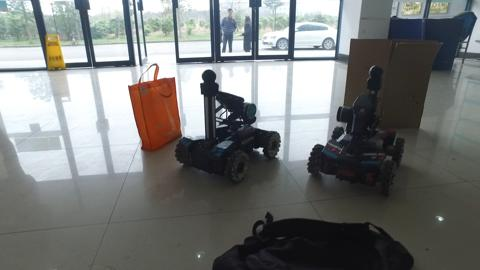bag: (125, 65, 182, 153)
chariot: (306, 64, 405, 199), (181, 69, 281, 182)
